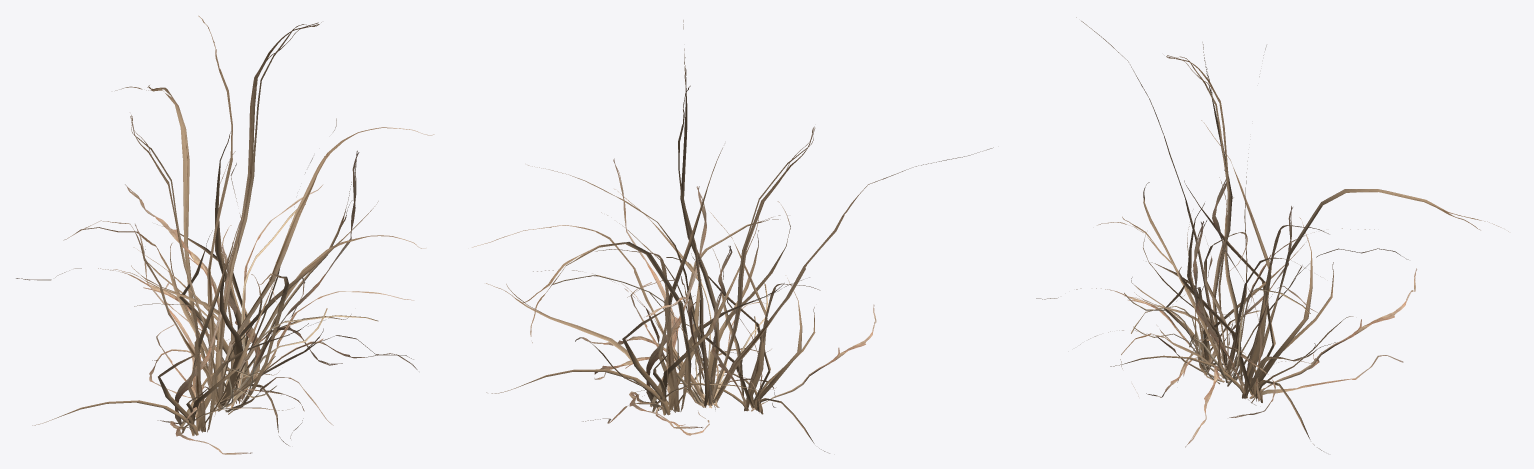
The model's file is V10_DryTuft_B.fbx.
The picture shows the model from 3 angles, left to right: view 1: azimuth 30°, elevation 25°; view 2: azimuth 150°, elevation 25°; view 3: azimuth 270°, elevation 25°; orthographic projection. The views are drawn at different scales.
Parts seen in each view (by area): view 1: V10_DryTuft_B; view 2: V10_DryTuft_B; view 3: V10_DryTuft_B.
Boxes of the visible parts, x1=… form: V10_DryTuft_B: x1=16, y1=15, x2=434, y2=454; V10_DryTuft_B: x1=472, y1=20, x2=993, y2=453; V10_DryTuft_B: x1=1036, y1=17, x2=1508, y2=451.
Size of the model in its own units: 35.58 by 30 by 36.51.
